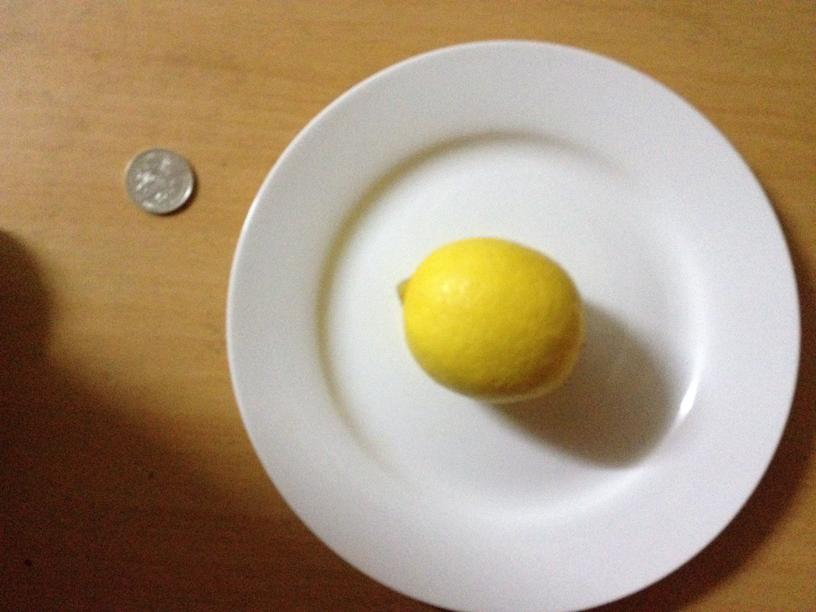coin: (122, 148, 198, 215)
lemon: (399, 236, 581, 404)
